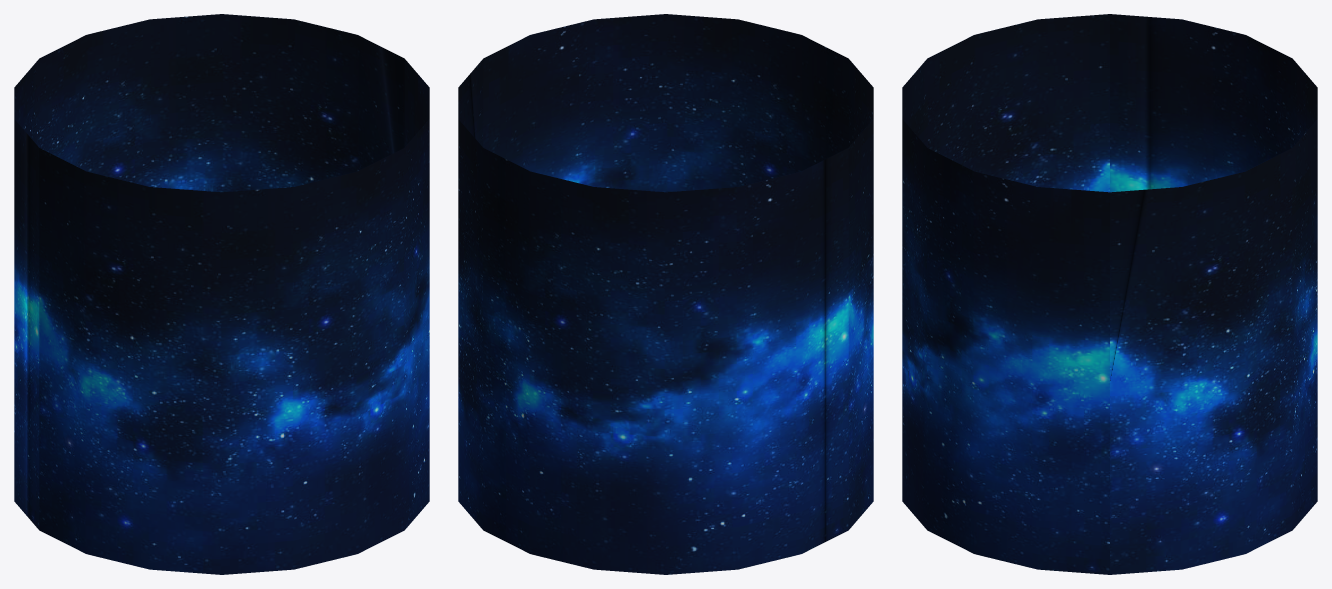
The model's file is sn_shikongluanliu_beijing_001.FBX.
The picture shows the model from 3 angles, left to right: view 1: azimuth 30°, elevation 25°; view 2: azimuth 150°, elevation 25°; view 3: azimuth 270°, elevation 25°; orthographic projection.
Parts seen in each view (by area): view 1: sn_shikongluanliu_beijing_001; view 2: sn_shikongluanliu_beijing_001; view 3: sn_shikongluanliu_beijing_001.
Boxes of the visible parts, <box> form: sn_shikongluanliu_beijing_001: <box>14,14,429,574</box>; sn_shikongluanliu_beijing_001: <box>458,14,873,574</box>; sn_shikongluanliu_beijing_001: <box>902,14,1317,574</box>.
Size of the model in its own units: 91.66 by 90.27 by 91.73.
